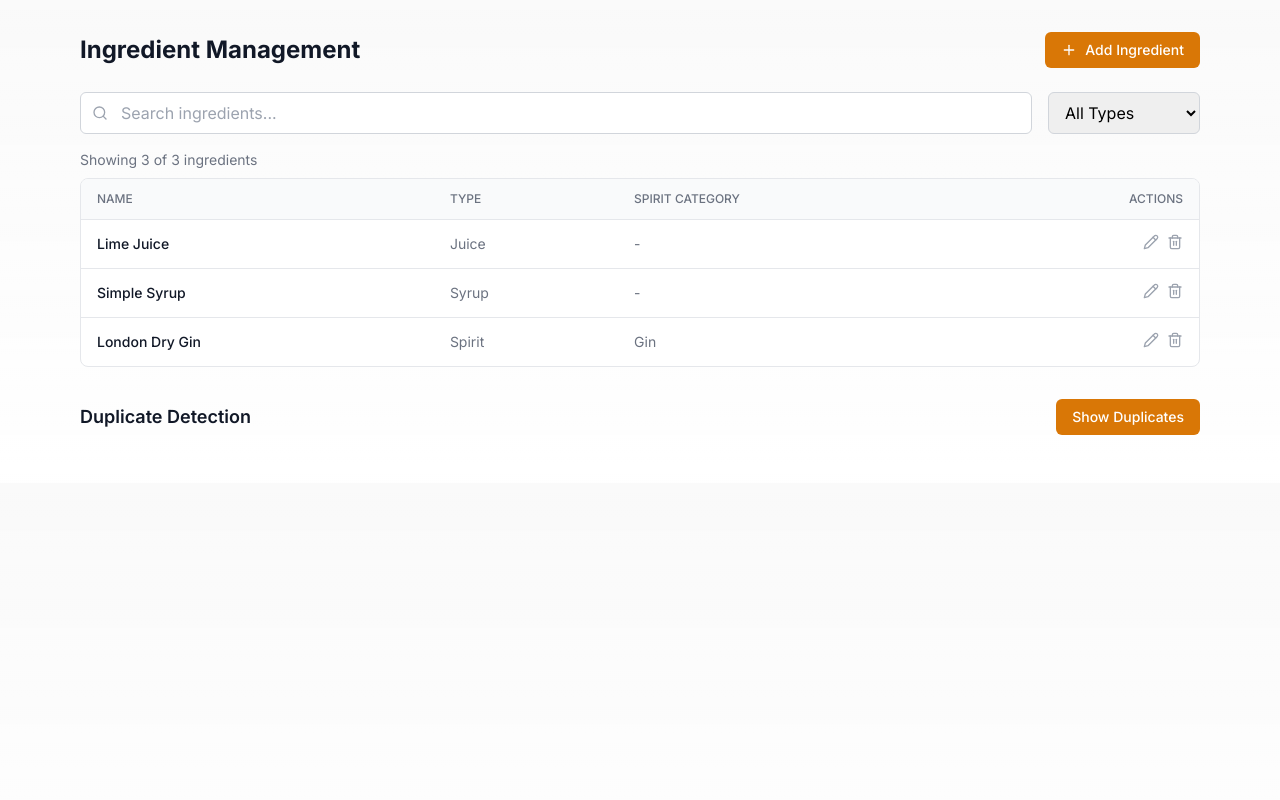
Test: IngredientsPage › delete of in-use ingredient shows error
This screenshot has width=1280, height=800.
expect the text "Lime Juice" is shown: met, box [81,220,434,268]
Note: Click delete on Lime Juice (id: 1, in-use — returns 409)
Click the button named "delete".
click(1175, 242)  # box [1167,234,1183,250]
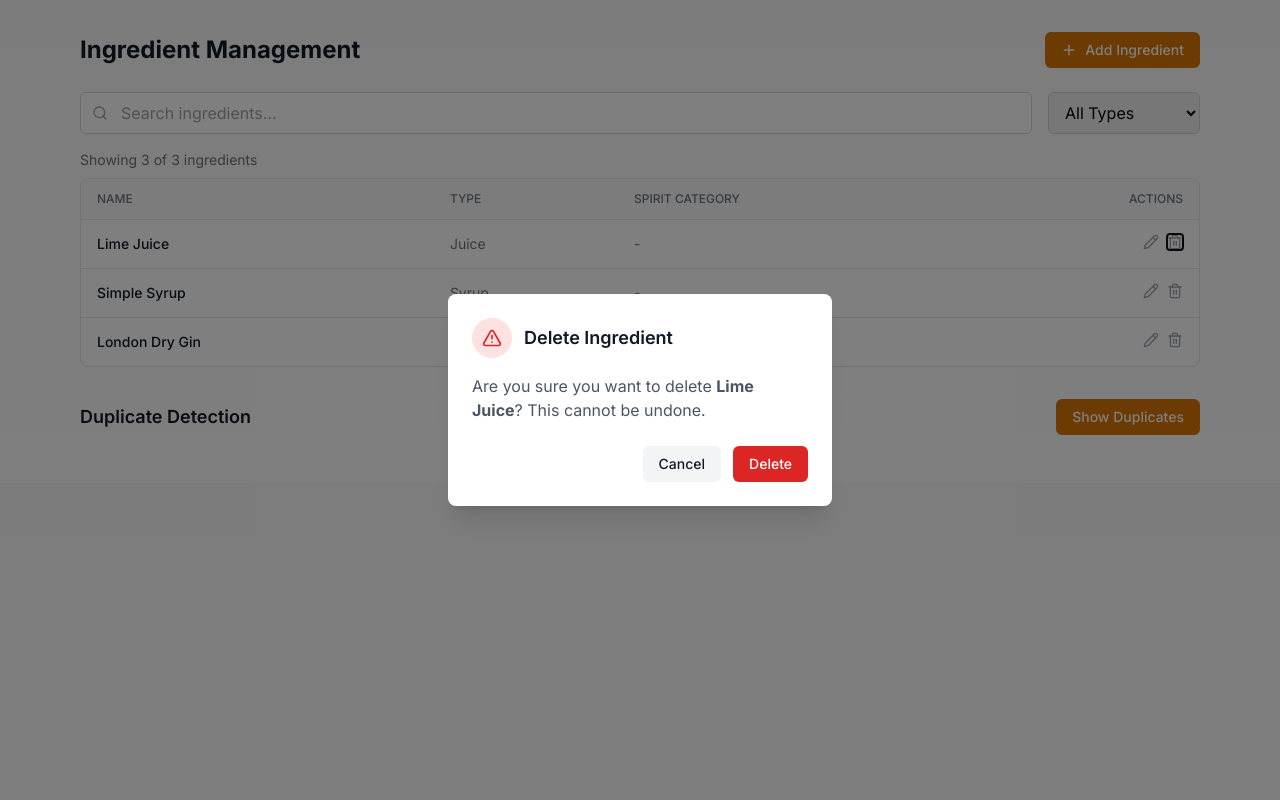
Click the button "Delete".
click(771, 464)  # box [733,446,808,482]
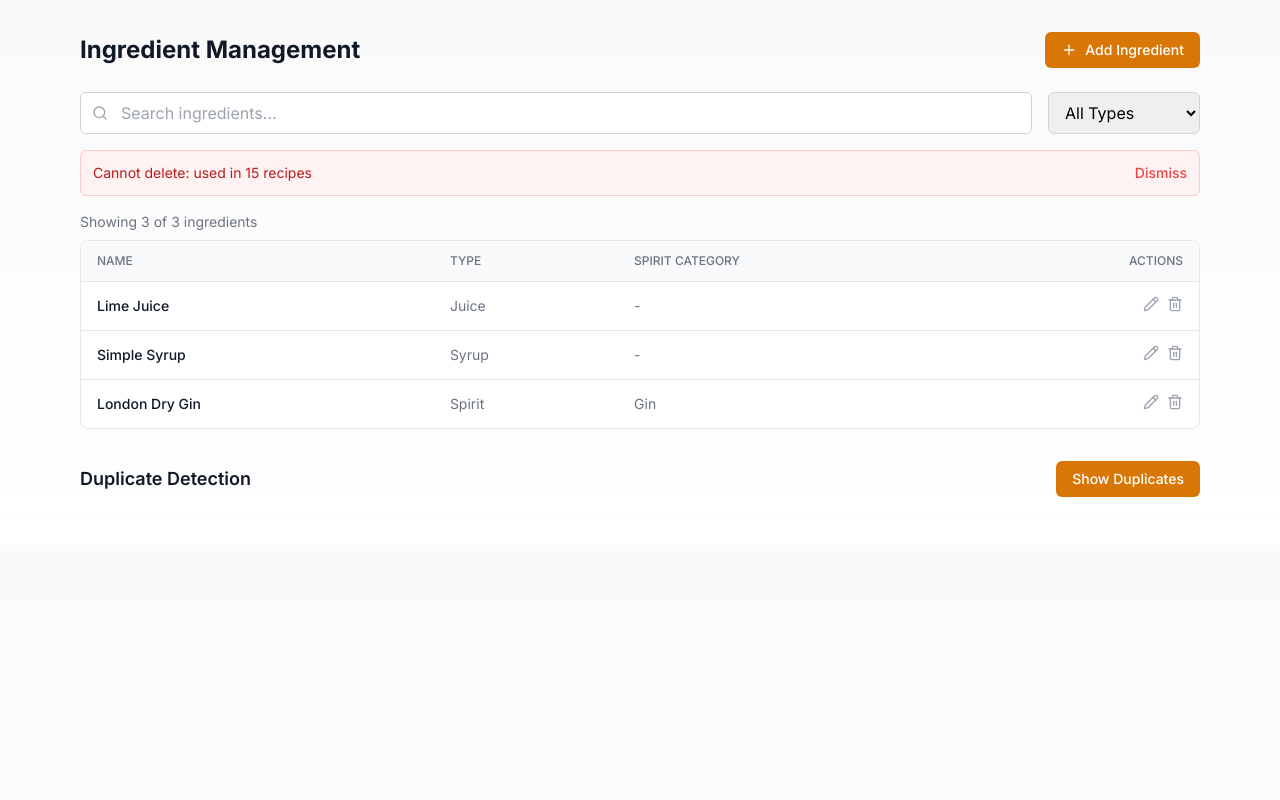
expect the text "Cannot delete: used in 15 recipes" is shown: met, box [93,163,312,183]
